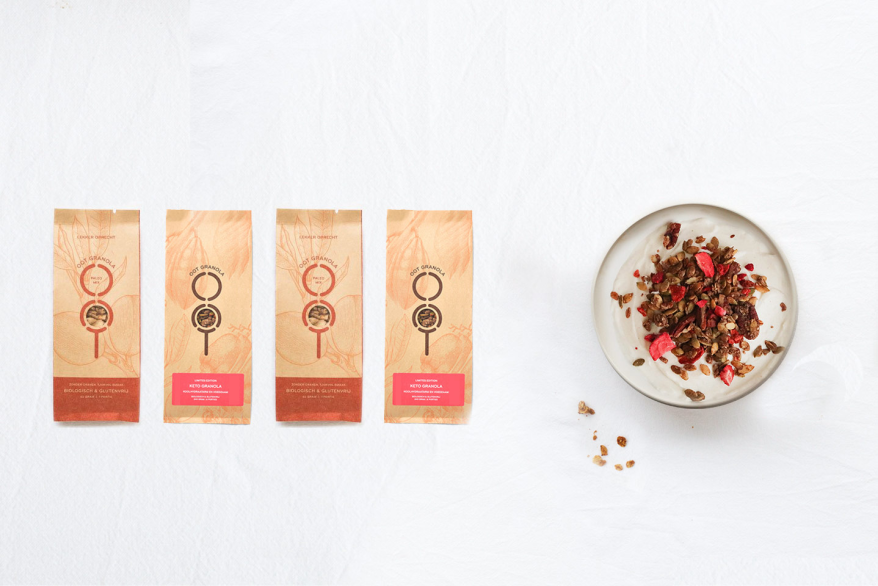KetoGranola: (390, 371, 468, 409), (169, 371, 247, 408)
